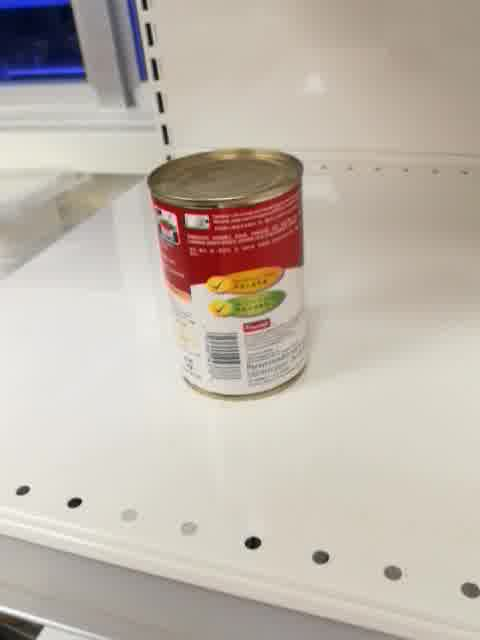tomatosoup: (145, 146, 308, 401)
